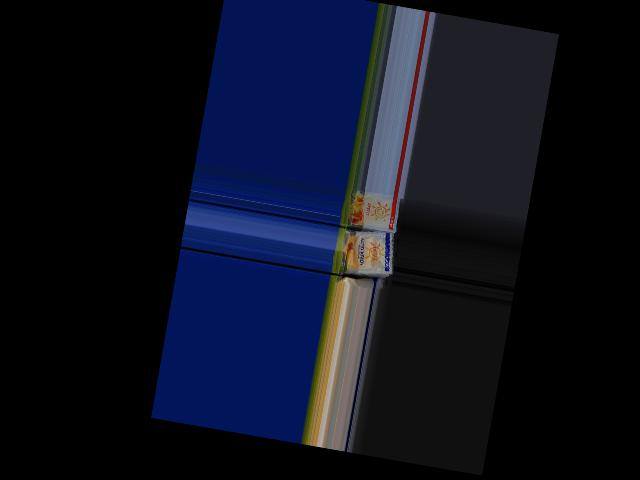cheese: (339, 186, 404, 234)
